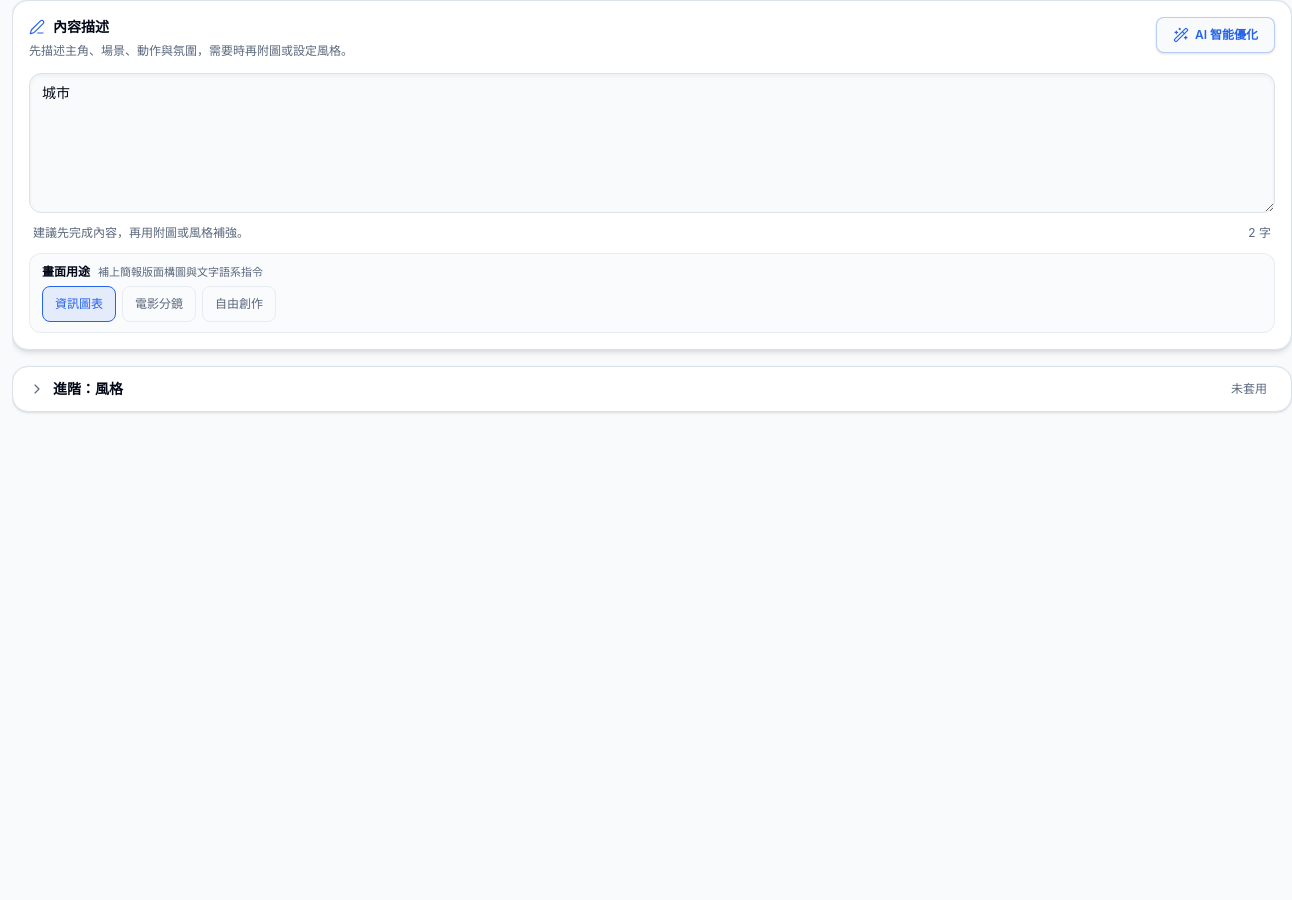
Test: ScriptEditor attachment purposes › applies an optimization, closes the suggestion and marks the rewritten prompt
Click the button "AI 智能優化" at {"x": 1215, "y": 35}, box [1156,17,1275,53]
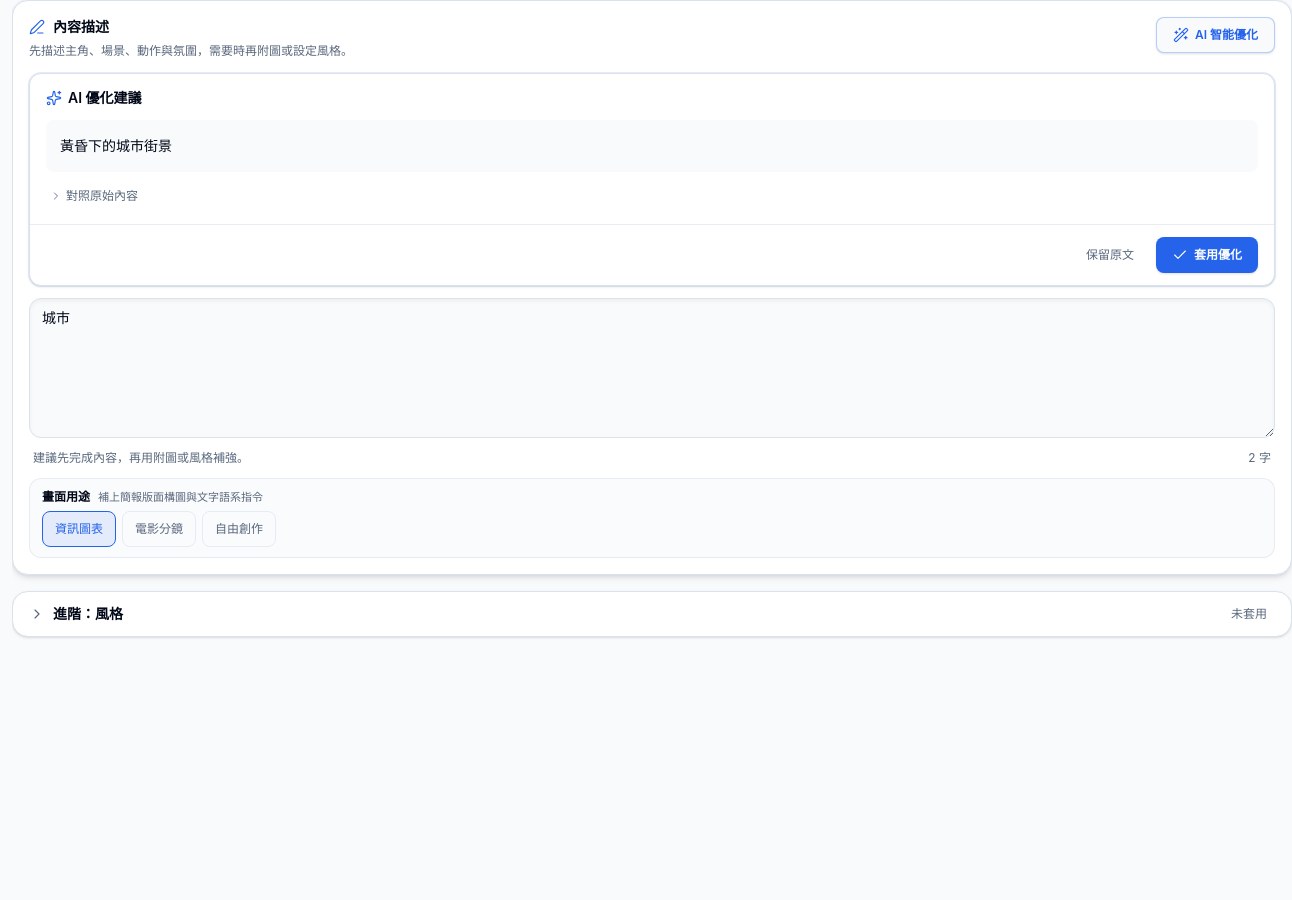
Click the button "套用優化" at {"x": 1207, "y": 254}, box [1156,236,1258,272]
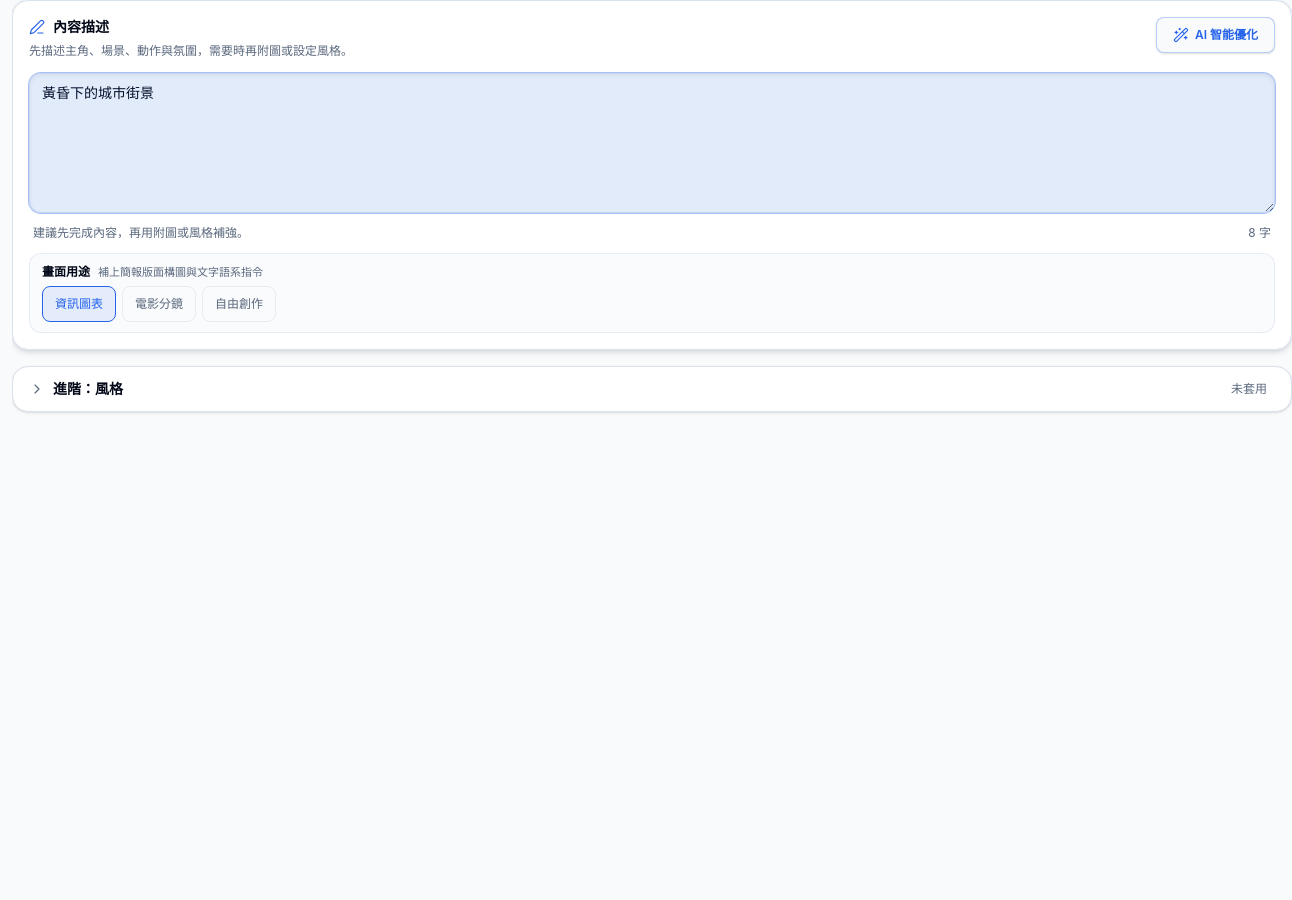
Expected: the text box labelled "內容描述" holds "黃昏下的城市街景", [29,72,1275,212]
Expected: the button "套用優化" is gone
